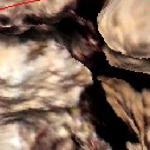alive: (5, 3, 148, 148)
